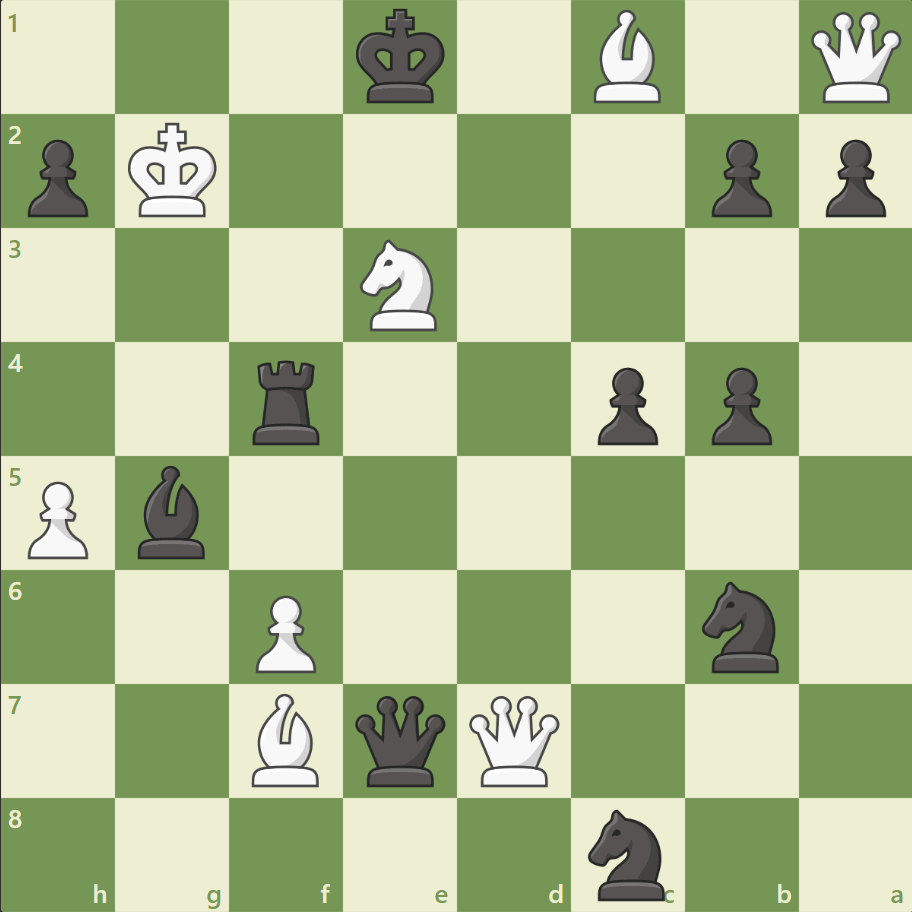B: (244, 687, 328, 790), (585, 6, 669, 109)
K: (124, 117, 224, 225)
N: (351, 234, 449, 337)
P: (247, 586, 322, 677), (20, 473, 95, 564)
Q: (464, 690, 563, 789), (805, 9, 904, 108)
b: (131, 460, 215, 563)
k: (351, 4, 451, 112)
n: (579, 802, 676, 904), (692, 575, 789, 677)
p: (701, 359, 776, 450), (701, 132, 776, 223), (20, 132, 95, 223), (588, 359, 662, 450), (815, 132, 889, 223)
q: (351, 690, 450, 789)
r: (246, 352, 329, 449)
